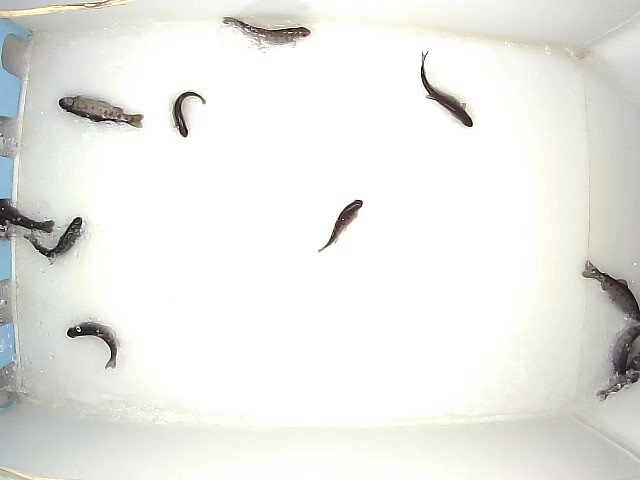fish: (421, 50, 473, 128), (581, 260, 640, 322), (59, 95, 144, 128), (222, 16, 311, 45), (67, 322, 118, 370), (318, 199, 363, 253), (23, 217, 83, 257), (596, 351, 640, 401), (612, 325, 640, 391), (1, 200, 55, 234), (172, 92, 206, 138)
